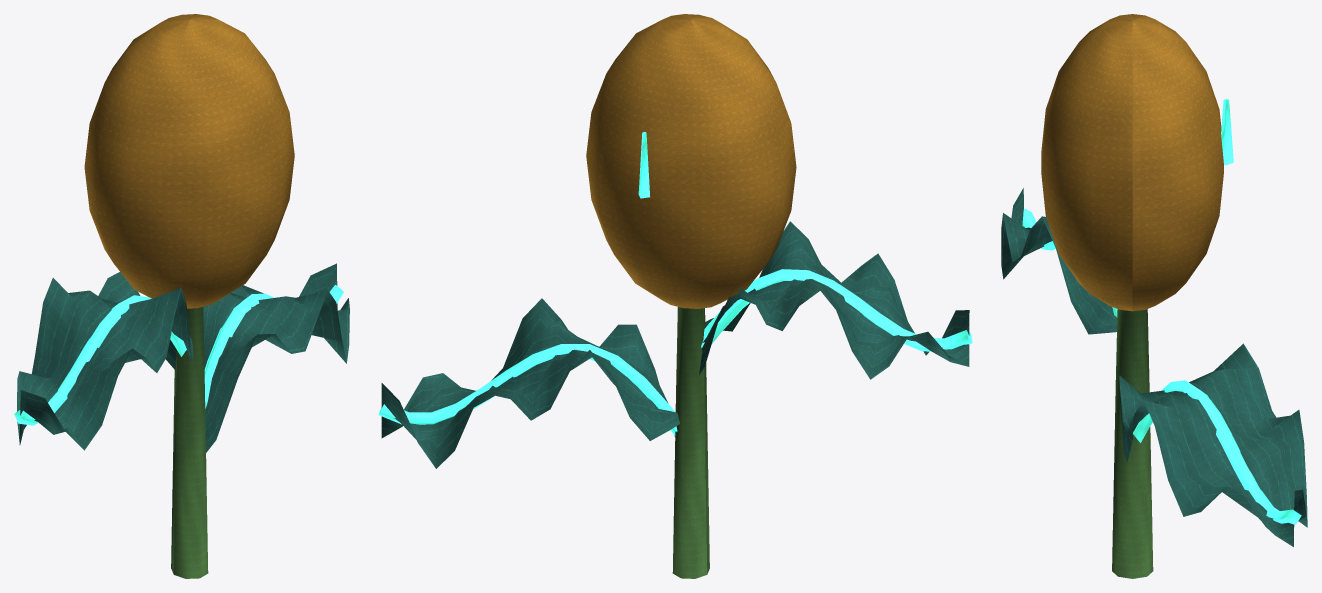
File: resource_kelp.glb
The picture shows the model from 3 angles, left to right: view 1: azimuth 30°, elevation 25°; view 2: azimuth 150°, elevation 25°; view 3: azimuth 270°, elevation 25°; orthographic projection.
Visible parts, largest first — view 1: resource_kelp; view 2: resource_kelp; view 3: resource_kelp.
Part boxes in pixels (left/top/right/bottom): resource_kelp: left=14, top=14, right=349, bottom=578; resource_kelp: left=378, top=14, right=972, bottom=578; resource_kelp: left=1001, top=14, right=1307, bottom=578.
Size of the model in its own units: 0.6089 by 0.7 by 0.3535.
1 material, 1 textured.
